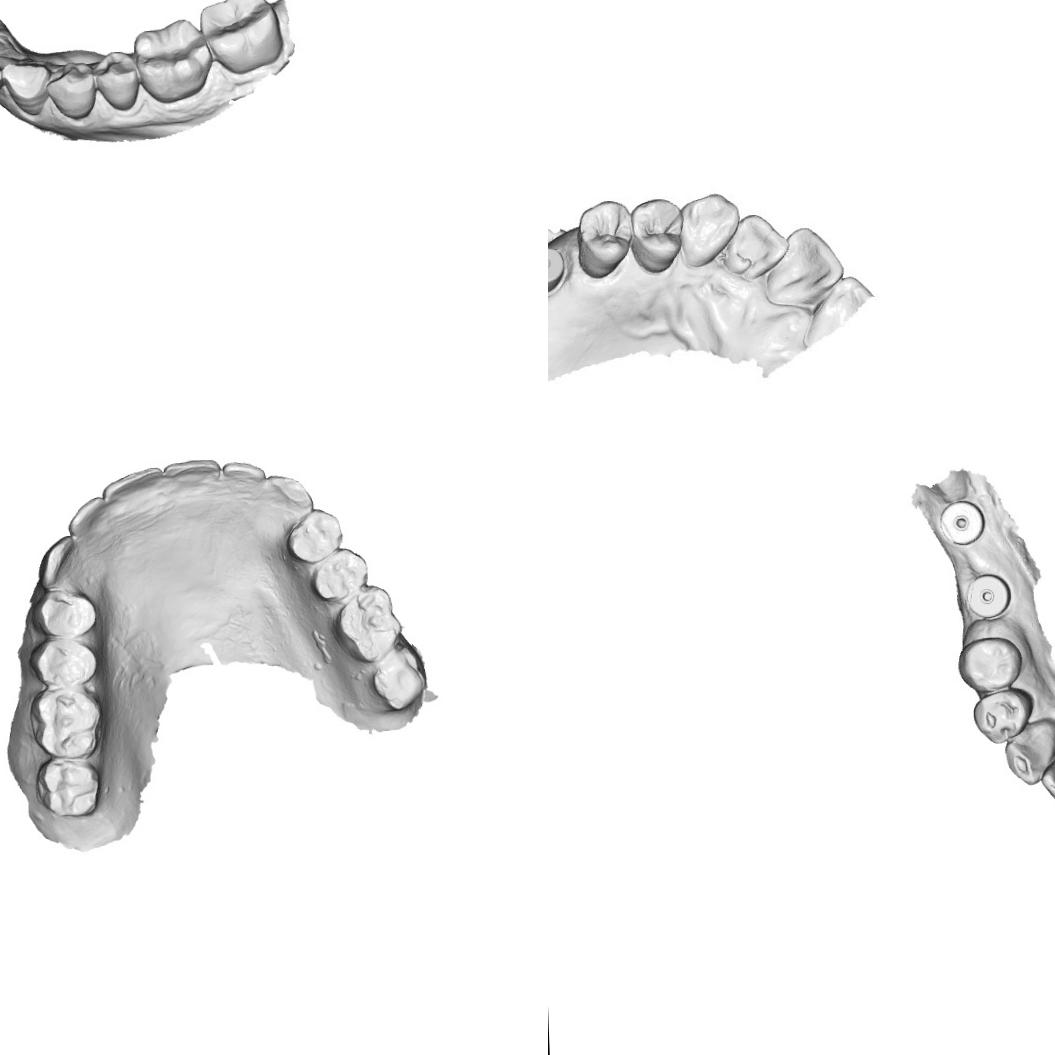canine: (677, 188, 738, 271), (1004, 716, 1055, 788), (0, 58, 55, 118), (35, 534, 86, 593), (262, 471, 314, 523)
implant: (939, 500, 992, 552), (964, 569, 1010, 620), (548, 241, 567, 297)
incisor: (766, 230, 841, 305), (728, 216, 788, 280), (102, 465, 164, 516), (159, 455, 223, 503), (66, 494, 110, 548), (220, 458, 268, 496), (1038, 743, 1055, 812), (0, 45, 17, 94)
molar: (132, 16, 216, 106), (197, 0, 282, 76), (330, 582, 405, 664), (27, 683, 105, 759), (32, 752, 104, 821), (364, 647, 430, 716)
premolar: (28, 633, 100, 690), (968, 685, 1036, 743), (28, 586, 101, 640), (572, 202, 633, 266), (306, 545, 371, 603), (956, 634, 1023, 690), (282, 505, 346, 563), (90, 48, 142, 112), (44, 58, 96, 122), (630, 196, 678, 261)
